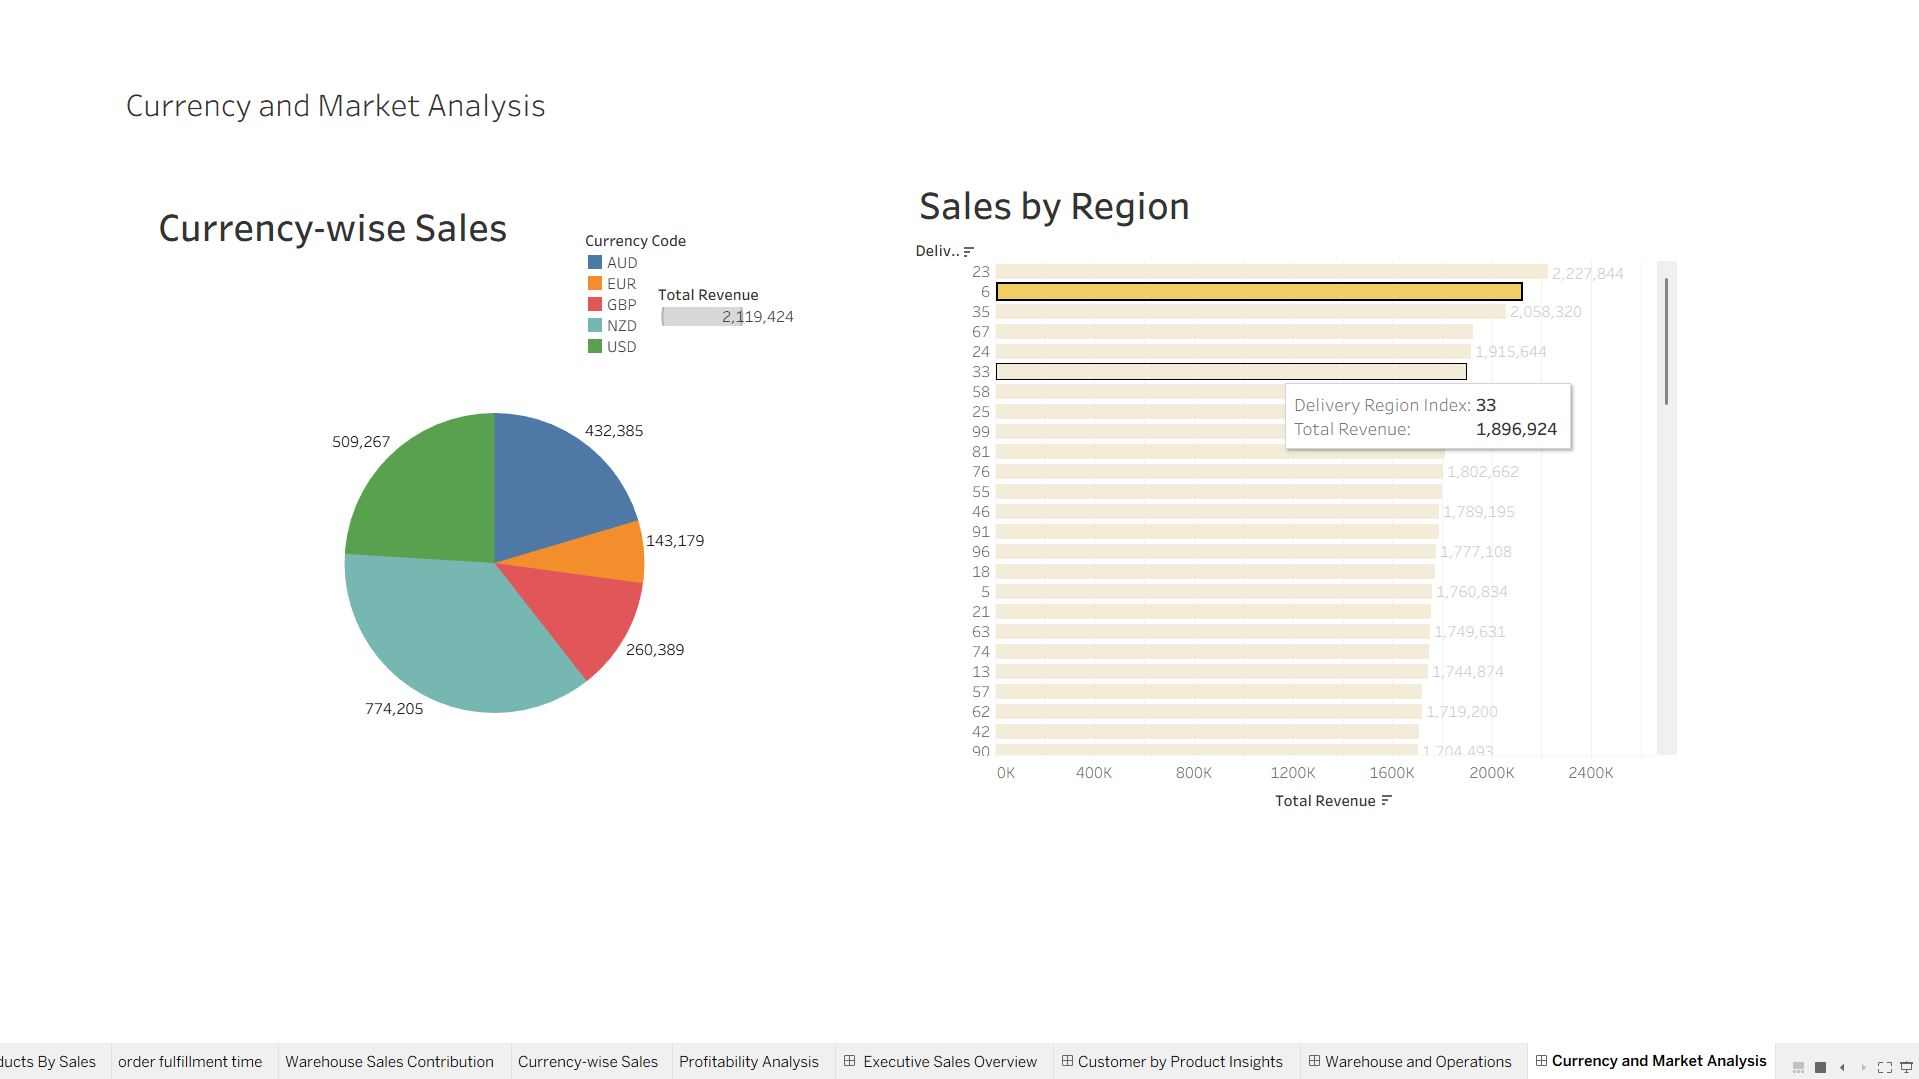

The dashboard page shown, as its layout file describes it:
{"tool":"tableau","page":{"name":"Currency and Market Analysis","canvas":[1700,900],"ordinal":1},"visuals":[{"type":"title","box":[8,8,1684,50]},{"type":"worksheet","title":"Sheet 3","mark":"Automatic","rows":["Delivery Region Index"],"cols":["Total Revenue"],"box":[805,104,762,643]},{"type":"worksheet","title":"Currency-wise Sales","mark":"Pie","box":[44,126,681,666]},{"type":"legend","title":"Currency-wise Sales","param":"[federated.06acshl09ibj2g1bcueli01w8b78].[none:Currency Code:nk]","box":[475,159,140,127]},{"type":"legend","title":"Currency-wise Sales","param":"[federated.06acshl09ibj2g1bcueli01w8b78].[sum:Total Revenue:qk]","box":[548,213,140,43]}]}

Visuals, with their boxes on the page's 1700x900 design canvas (x1, y1, x2, y2). These are canvas units, not pixel positions in the 1919x1079 screenshot, which may show the page scaled, cropped or inside an application window:
title: 8,8,1692,58
"Sheet 3" worksheet: 805,104,1567,747
"Currency-wise Sales" worksheet (Pie marks): 44,126,725,792
"Currency-wise Sales" legend: 475,159,615,286
"Currency-wise Sales" legend: 548,213,688,256
